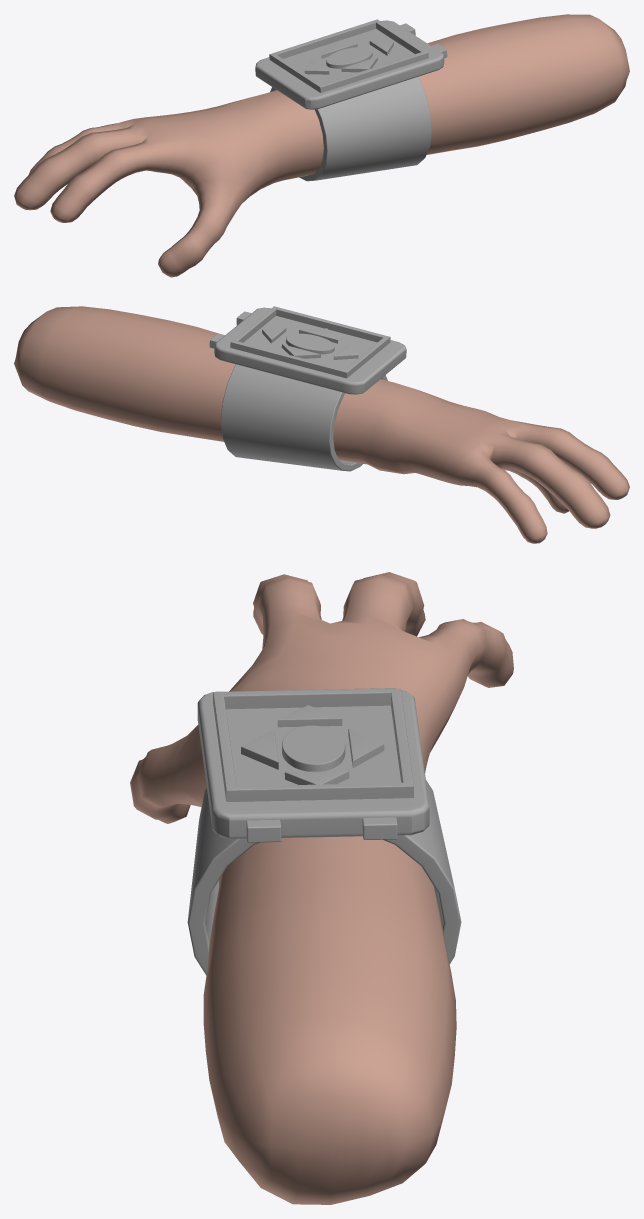
The model's file is Packboy_03.fbx.
The picture shows the model from 3 angles, top to bottom: view 1: azimuth 30°, elevation 25°; view 2: azimuth 150°, elevation 25°; view 3: azimuth 270°, elevation 25°; orthographic projection. The views are drawn at different scales.
Parts seen in each view (by area): view 1: AnatomyHandAlien:alienhand, wristband, packboy2, stopbutton; view 2: AnatomyHandAlien:alienhand, wristband, packboy2, stopbutton; view 3: AnatomyHandAlien:alienhand, packboy2, wristband, stopbutton, rightbutton, upbutton.
Boxes of the visible parts, x1,y1,x2,y2 form: AnatomyHandAlien:alienhand: (14,14,629,277); wristband: (270,76,431,181); packboy2: (255,19,444,109); stopbutton: (326,47,372,68); AnatomyHandAlien:alienhand: (14,306,629,543); wristband: (220,364,387,471); packboy2: (214,306,406,394); stopbutton: (285,333,334,354); AnatomyHandAlien:alienhand: (130,572,513,1204); packboy2: (197,688,429,839); wristband: (187,779,461,975); stopbutton: (282,725,345,771); rightbutton: (277,705,342,727); upbutton: (241,730,278,769).
Size of the model in its own units: 61.68 by 14.85 by 17.51.
